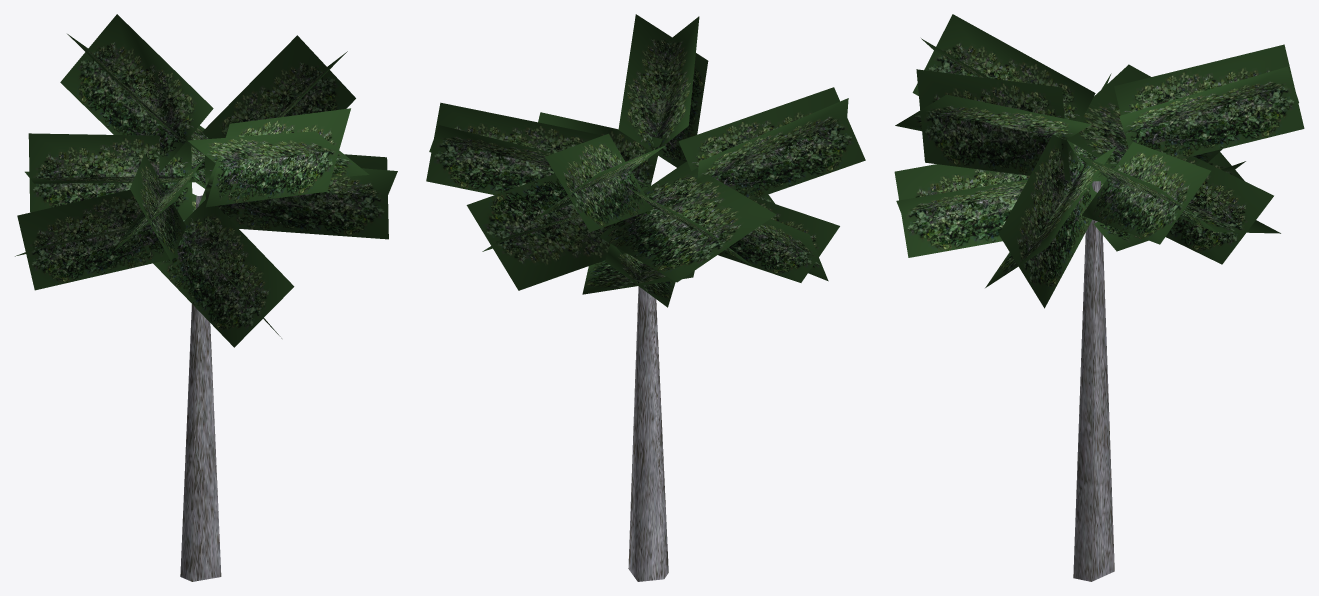
Rendered from decd_massassi_a_l2.fbx.
3 views of the same model, side by side, from view 1: azimuth 30°, elevation 25°; view 2: azimuth 150°, elevation 25°; view 3: azimuth 270°, elevation 25° (orthographic). The views are drawn at different scales.
Visible parts, largest first — view 1: mesh_node; view 2: mesh_node; view 3: mesh_node.
Boxes of the visible parts, x1,y1,x2,y2 form: mesh_node: (15,14,397,581); mesh_node: (426,14,865,581); mesh_node: (894,14,1304,581).
Bounding box in the file's own units: 71.22 × 92.14 × 65.98.
